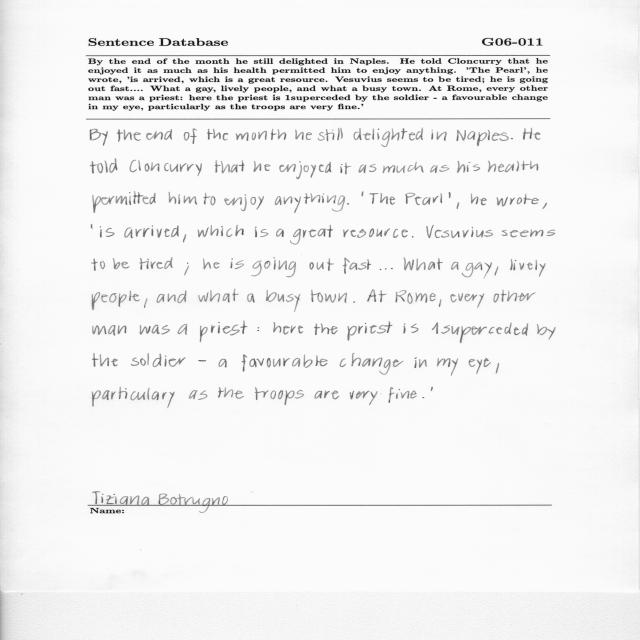word: (432, 322, 528, 343), (93, 387, 175, 408), (242, 354, 328, 372), (339, 353, 404, 375), (275, 193, 345, 213), (93, 192, 156, 213), (354, 128, 423, 147), (129, 160, 202, 176), (200, 321, 248, 342), (280, 162, 332, 180), (92, 291, 140, 310), (251, 258, 296, 278), (348, 321, 393, 341), (255, 387, 304, 405), (426, 225, 493, 238), (456, 130, 509, 146), (290, 225, 333, 244), (131, 353, 186, 367), (266, 290, 300, 312), (124, 226, 179, 239), (224, 195, 264, 212), (343, 228, 408, 238), (510, 259, 546, 277), (236, 129, 286, 141), (198, 289, 239, 303), (395, 290, 436, 304), (493, 290, 536, 303), (198, 225, 244, 237), (488, 161, 538, 172), (497, 194, 539, 207), (462, 262, 492, 279), (451, 293, 485, 308), (343, 257, 371, 274), (311, 290, 347, 303), (388, 387, 417, 403), (383, 162, 424, 173), (406, 193, 443, 205), (501, 230, 555, 238), (139, 257, 172, 270), (91, 159, 118, 174), (350, 391, 378, 405), (215, 161, 245, 174), (157, 291, 187, 304), (437, 358, 458, 376), (93, 325, 127, 336), (468, 358, 491, 374), (273, 322, 303, 334), (416, 258, 443, 271), (93, 353, 118, 367), (169, 192, 197, 204), (116, 129, 141, 142), (318, 128, 343, 141), (309, 258, 334, 271), (369, 193, 395, 205), (218, 387, 244, 399), (90, 129, 108, 146), (537, 324, 556, 340), (140, 325, 170, 335), (314, 323, 338, 335), (146, 129, 172, 140), (457, 161, 480, 173), (367, 289, 387, 302), (207, 129, 228, 140), (522, 128, 541, 140), (315, 391, 340, 400), (184, 128, 197, 144), (471, 194, 487, 206), (189, 390, 208, 400), (254, 161, 271, 172), (113, 258, 130, 269), (91, 258, 105, 271), (431, 130, 447, 141), (203, 259, 219, 270), (295, 130, 312, 140), (100, 227, 115, 238), (359, 164, 377, 173), (430, 165, 450, 173), (230, 259, 244, 270), (404, 324, 419, 334), (203, 193, 215, 205), (414, 357, 427, 368), (340, 163, 351, 175), (255, 227, 268, 237), (404, 258, 414, 271), (178, 324, 188, 335), (218, 359, 227, 368), (247, 293, 255, 303), (184, 263, 189, 276), (276, 229, 284, 237), (451, 262, 458, 270), (495, 267, 499, 276), (144, 298, 147, 308), (496, 363, 499, 373), (183, 234, 186, 243), (380, 268, 393, 270), (543, 203, 547, 209), (439, 299, 441, 307), (457, 202, 459, 209), (449, 192, 451, 198), (362, 192, 364, 197), (91, 224, 93, 229), (257, 327, 259, 331), (199, 360, 207, 361), (431, 387, 433, 391), (347, 203, 349, 205), (412, 236, 414, 238), (353, 301, 355, 303), (511, 138, 513, 139), (423, 397, 425, 398)
